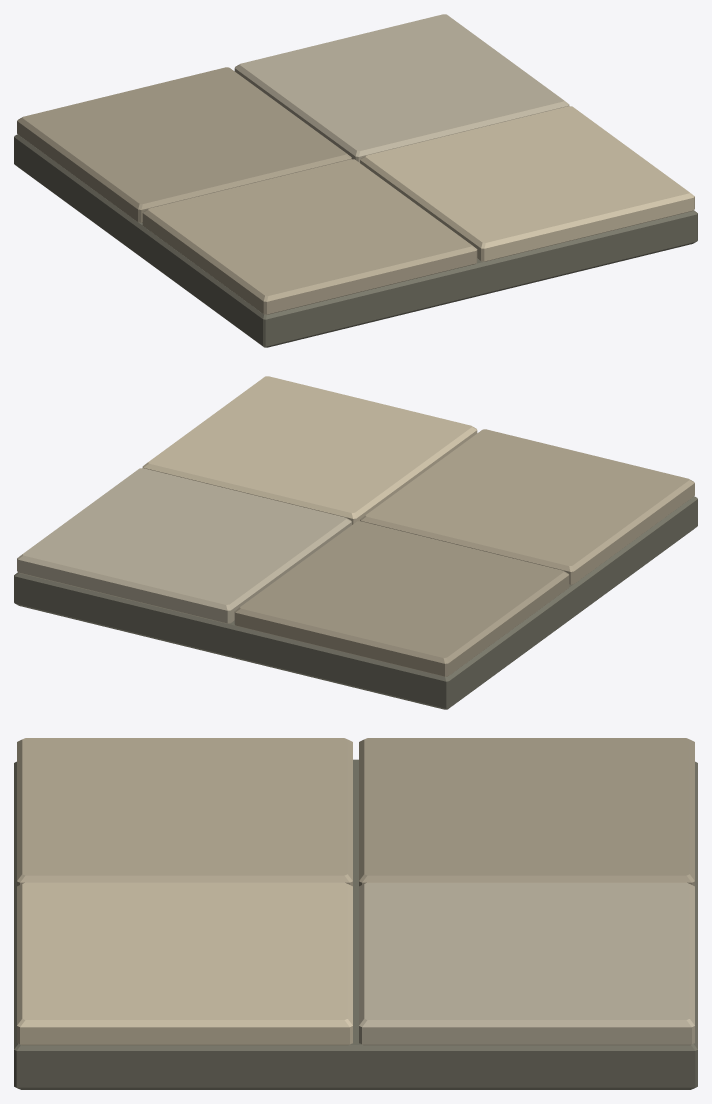
File: Paving_A_2x2.fbx
3 views of the same model, one above another, from view 1: azimuth 30°, elevation 25°; view 2: azimuth 150°, elevation 25°; view 3: azimuth 270°, elevation 25° (orthographic). The views are drawn at different scales.
Visible parts, largest first — view 1: Paving_A_2x2; view 2: Paving_A_2x2; view 3: Paving_A_2x2.
Boxes of the visible parts, box(x1,y1,x2,y2) form: Paving_A_2x2: box(14, 14, 697, 347); Paving_A_2x2: box(14, 376, 697, 709); Paving_A_2x2: box(14, 738, 697, 1089).
Bounding box in the file's own units: 2 × 0.22 × 2.
